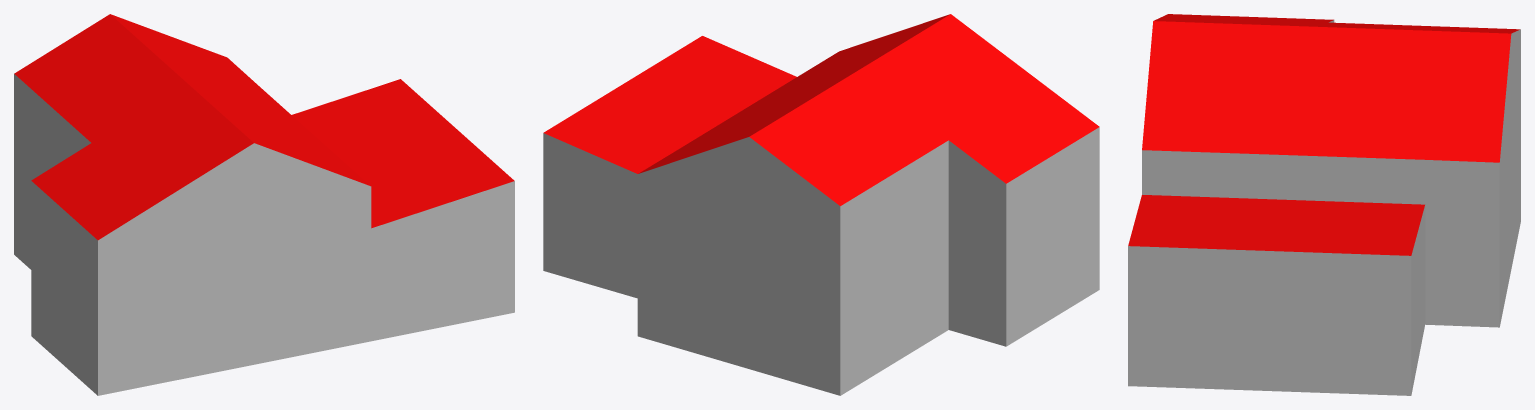
3 renders of one model, left to right at view 1: azimuth 30°, elevation 25°; view 2: azimuth 150°, elevation 25°; view 3: azimuth 270°, elevation 25°, orthographic. The views are drawn at different scales.
Size of the model in its own units: 7.23 by 3.67 by 5.54.
